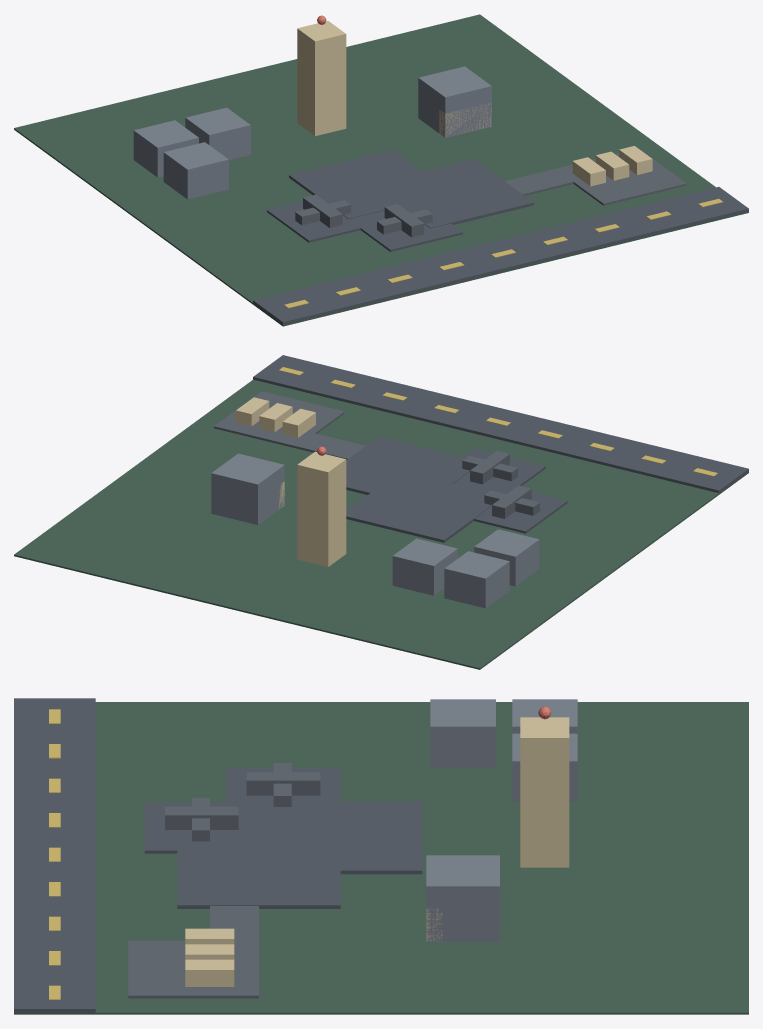
The model's file is stage_11.glb.
3 renders of one model, top to bottom at view 1: azimuth 30°, elevation 25°; view 2: azimuth 150°, elevation 25°; view 3: azimuth 270°, elevation 25°, orthographic. The views are drawn at different scales.
Parts seen in each view (by area): view 1: geometry_0; view 2: geometry_0; view 3: geometry_0.
Part boxes in pixels (left/top/right/bottom): geometry_0: left=14, top=14, right=748, bottom=326; geometry_0: left=14, top=355, right=748, bottom=669; geometry_0: left=14, top=698, right=748, bottom=1014.
Bounding box in the file's own units: 9 × 2.06 × 9.
